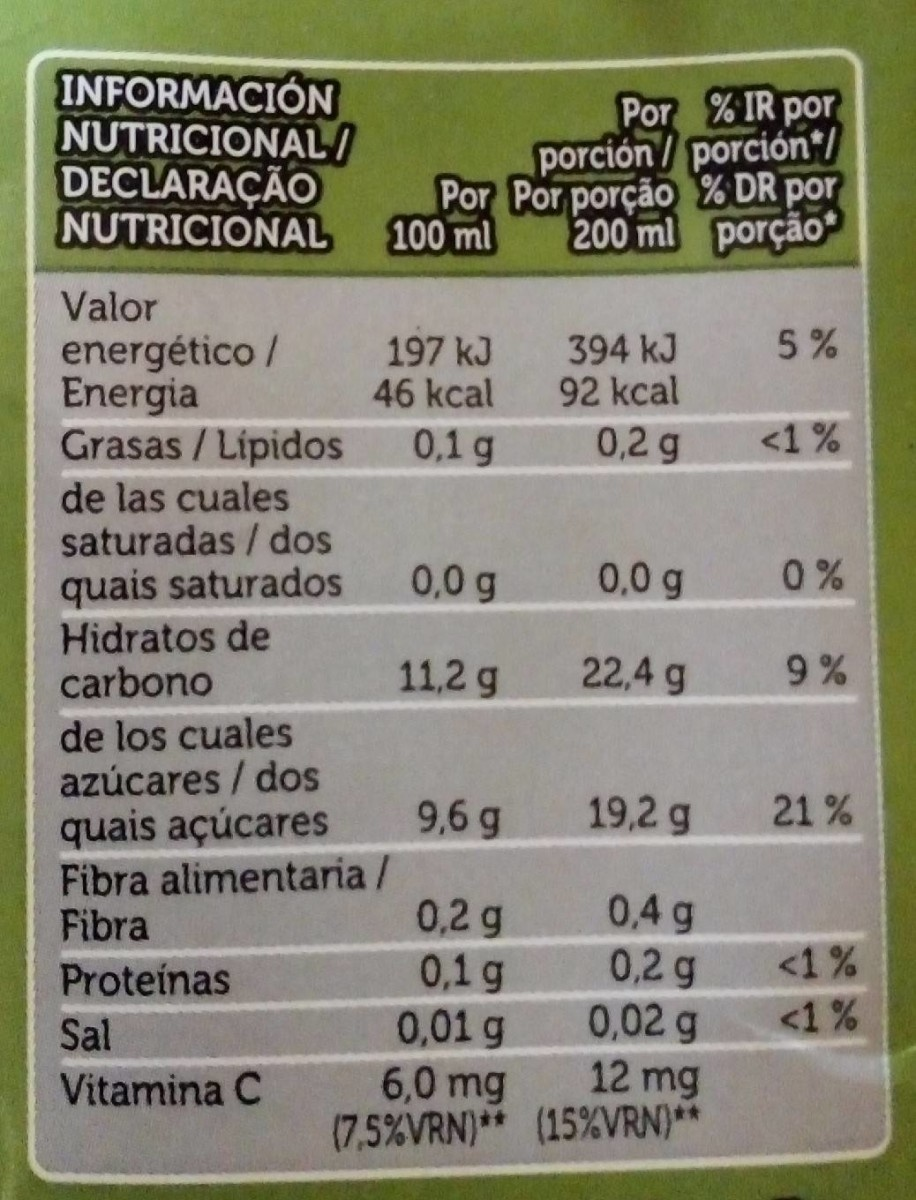column: (46, 62, 366, 1116), (510, 83, 697, 1158), (702, 80, 853, 1160), (382, 89, 502, 1156)
table: (24, 45, 899, 1180)
